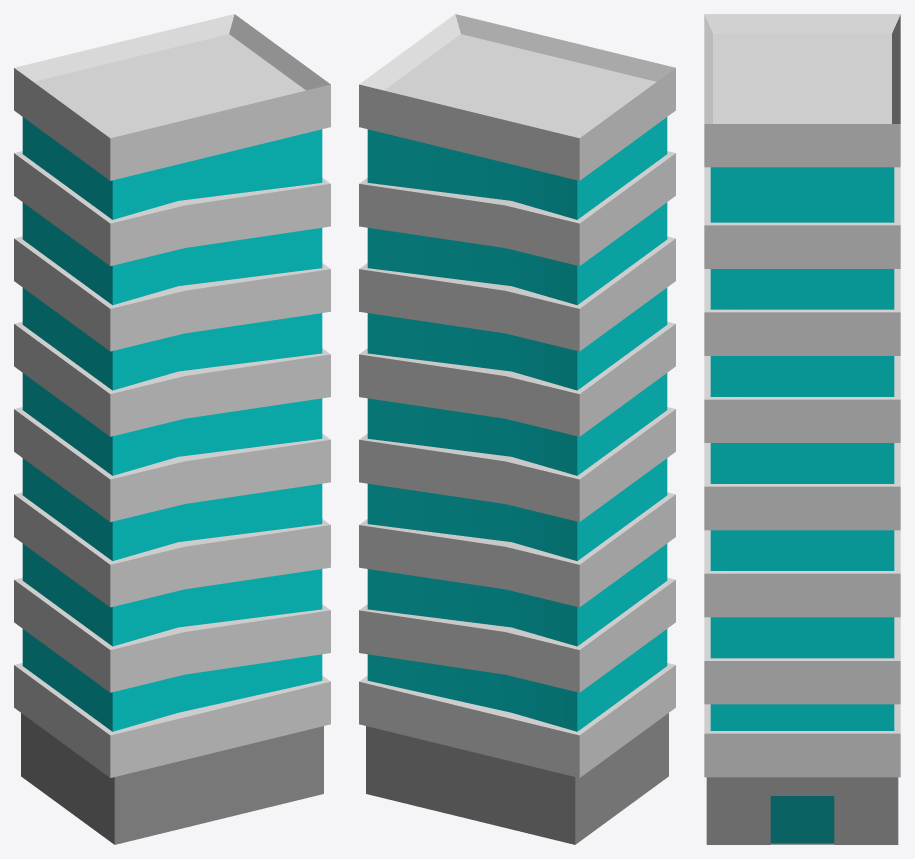
The picture shows the model from 3 angles, left to right: view 1: azimuth 30°, elevation 25°; view 2: azimuth 150°, elevation 25°; view 3: azimuth 270°, elevation 25°; orthographic projection. The views are drawn at different scales.
Visible parts, largest first — view 1: pCube1, pCube2; view 2: pCube1, pCube2; view 3: pCube1, pCube2.
Boxes of the visible parts, <box> form: pCube1: <box>14,14,330,777</box>; pCube2: <box>21,713,323,844</box>; pCube1: <box>359,14,675,777</box>; pCube2: <box>366,713,668,844</box>; pCube1: <box>704,14,900,777</box>; pCube2: <box>706,777,898,844</box>.
Bounding box in the file's own units: 167 × 512 × 126.
